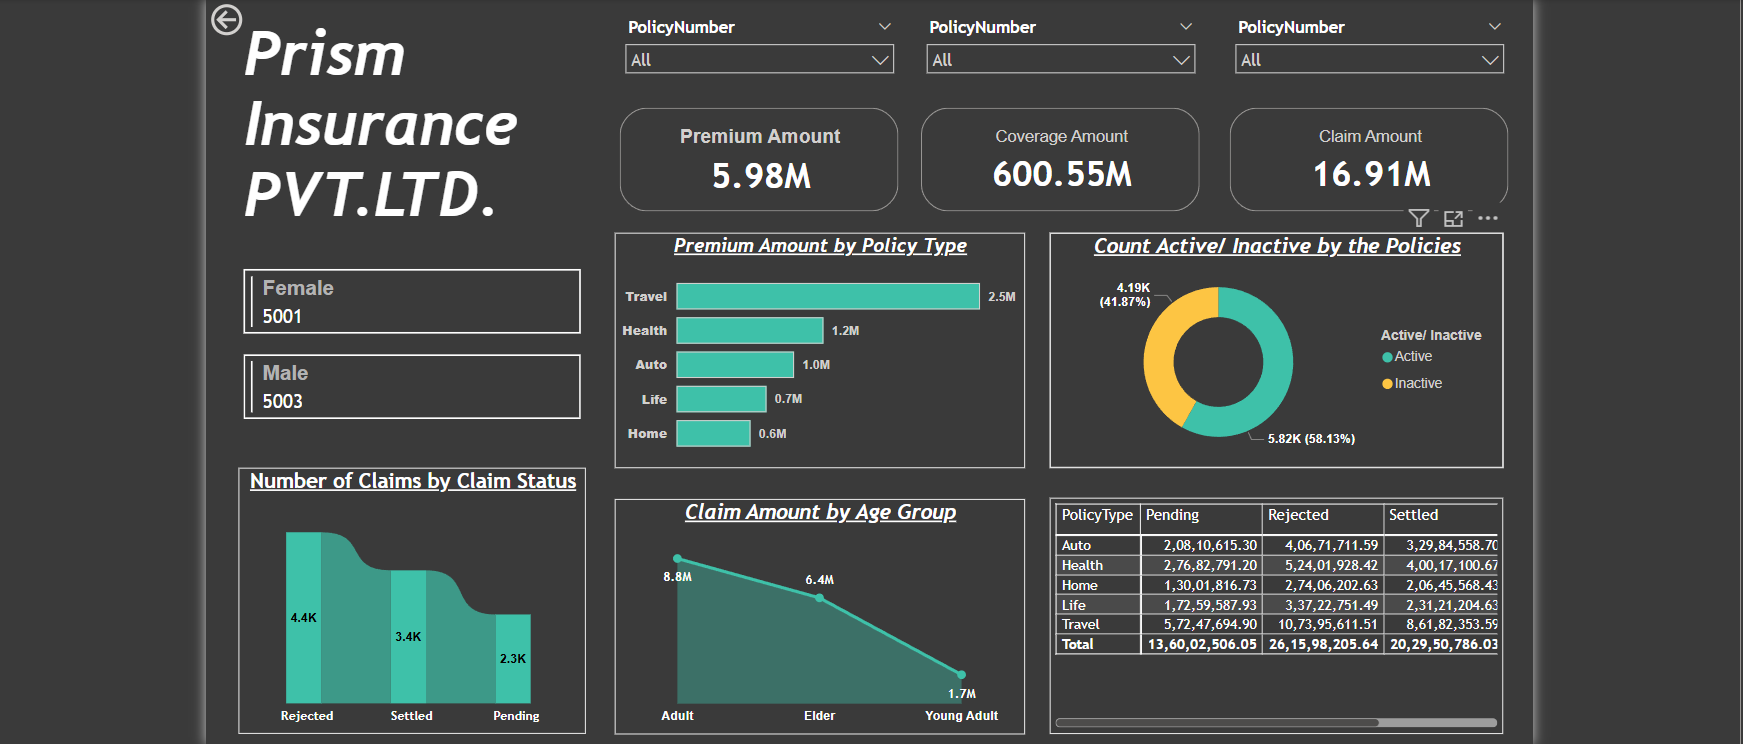

The page's visual inventory and layout, read from the dashboard file:
{"tool":"powerbi","page":{"name":"Prism Insurance PVT.LTD ","canvas":[1280,720],"ordinal":0},"visuals":[{"type":"slicer","fields":{"Values":["InsuranceData.PolicyNumber"]},"box":[685.3,13.3,279.9,86.9],"z":0},{"type":"slicer","fields":{"Values":["InsuranceData.PolicyNumber"]},"box":[394.5,13.3,279.9,101.3],"z":1000},{"type":"slicer","fields":{"Values":["InsuranceData.PolicyNumber"]},"box":[983.2,13.3,279.9,88.1],"z":2000},{"type":"textbox","box":[31.4,13.3,335.4,242.5],"z":3000},{"type":"cardVisual","fields":{"Data":["Sum(InsuranceData.PremiumAmount)"]},"box":[394.5,100.1,279.9,111],"z":4000},{"type":"cardVisual","fields":{"Data":["Sum(InsuranceData.CoverageAmount)"]},"box":[685.3,100.1,279.9,111],"z":5000},{"type":"cardVisual","fields":{"Data":["Sum(InsuranceData.ClaimAmount)"]},"box":[983.2,100.1,279.9,111],"z":6000},{"type":"multiRowCard","fields":{"Values":["InsuranceData.Gender","CountNonNull(InsuranceData.Gender)"]},"box":[31.4,255.8,335.4,185.8],"z":7000},{"type":"ribbonChart","title":"Number of Claims by  Claim Status","fields":{"Category":["InsuranceData.ClaimStatus"],"Y":["CountNonNull(InsuranceData.ClaimStatus)"]},"box":[31.4,452.4,335.4,257],"z":8000},{"type":"barChart","title":"Premium Amount by Policy Type","fields":{"Category":["InsuranceData.PolicyType"],"Y":["Sum(InsuranceData.PremiumAmount)"]},"box":[394.5,225.6,395.7,226.8],"z":9000},{"type":"lineChart","title":"Claim Amount by Age Group","fields":{"Category":["InsuranceData.Age Group"],"Y":["Sum(InsuranceData.ClaimAmount)"]},"box":[394.5,482.6,395.7,226.8],"z":10000},{"type":"donutChart","title":"Count Active/ Inactive by the Policies","fields":{"Category":["InsuranceData.Active/ Inactive"],"Y":["CountNonNull(InsuranceData.Active/ Inactive)"]},"box":[814.3,225.6,437.9,226.8],"z":11000},{"type":"pivotTable","fields":{"Values":["Sum(InsuranceData.CoverageAmount)"],"Rows":["InsuranceData.PolicyType"],"Columns":["InsuranceData.ClaimStatus"]},"box":[814.3,481.4,437.9,228],"z":12000},{"type":"actionButton","box":[0,0,100,40],"z":12001}]}

Visuals, with their boxes on the page's 1280x720 design canvas (x1, y1, x2, y2). These are canvas units, not pixel positions in the 1743x744 screenshot, which may show the page scaled, cropped or inside an application window:
slicer - InsuranceData.PolicyNumber: detection(685, 13, 965, 100)
slicer - InsuranceData.PolicyNumber: detection(394, 13, 674, 115)
slicer - InsuranceData.PolicyNumber: detection(983, 13, 1263, 101)
textbox: detection(31, 13, 367, 256)
cardVisual - Sum(InsuranceData.PremiumAmount): detection(394, 100, 674, 211)
cardVisual - Sum(InsuranceData.CoverageAmount): detection(685, 100, 965, 211)
cardVisual - Sum(InsuranceData.ClaimAmount): detection(983, 100, 1263, 211)
multiRowCard - InsuranceData.Gender x CountNonNull(InsuranceData.Gender): detection(31, 256, 367, 442)
"Number of Claims by  Claim Status" ribbonChart: detection(31, 452, 367, 709)
"Premium Amount by Policy Type" barChart: detection(394, 226, 790, 452)
"Claim Amount by Age Group" lineChart: detection(394, 483, 790, 709)
"Count Active/ Inactive by the Policies" donutChart: detection(814, 226, 1252, 452)
pivotTable - Sum(InsuranceData.CoverageAmount) x InsuranceData.PolicyType: detection(814, 481, 1252, 709)
actionButton: detection(0, 0, 100, 40)
